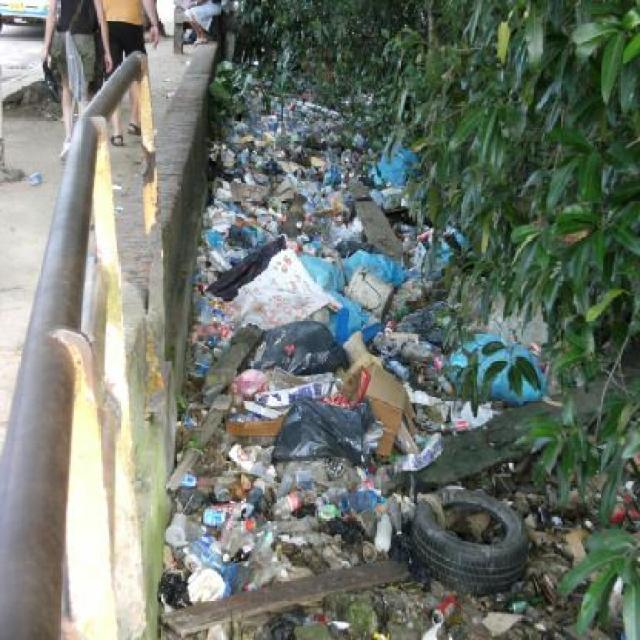garbage: (222, 98, 385, 560), (161, 372, 404, 580)
